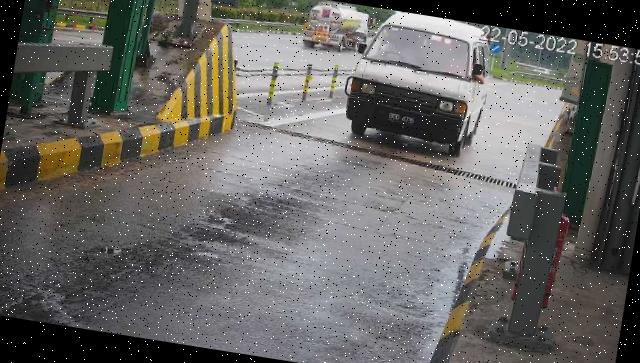License_Plate: (385, 109, 422, 130)
van: (343, 6, 497, 160)
